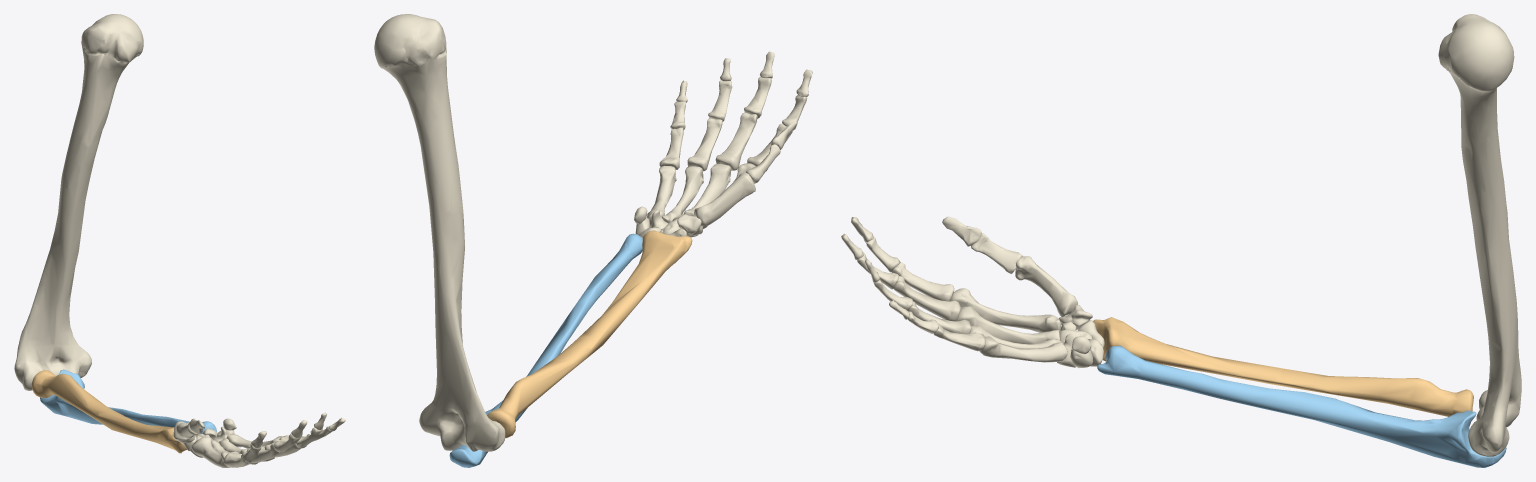
The model's file is forearm-preview.glb.
The picture shows the model from 3 angles, left to right: view 1: azimuth 30°, elevation 25°; view 2: azimuth 150°, elevation 25°; view 3: azimuth 270°, elevation 25°; orthographic projection. The views are drawn at different scales.
Visible parts, largest first — view 1: Humerus.r-preview, Radius.r-preview, Ulna.r-preview, Second metacarpal bone.r-preview; view 2: Humerus.r-preview, Radius.r-preview, Ulna.r-preview, First metacarpal bone-preview, Proximal phalanx of third finger of hand-preview, Fourth metacarpal bone-preview, Third metacarpal bone.l-preview, Proximal phalanx of fourth finger of hand-preview, Fifth metacarpal bone.r-preview, Proximal phalanx of fifth finger of hand-preview, Middle phalanx of third finger of hand-preview, Middle phalanx of fourth finger of hand-preview (+1 smaller); view 3: Humerus.r-preview, Ulna.r-preview, Radius.r-preview, Second metacarpal bone.r-preview, First metacarpal bone-preview, Fifth metacarpal bone.r-preview, Third metacarpal bone.l-preview, Proximal phalanx of third finger of hand-preview, Proximal phalanx of second finger of hand-preview, Proximal phalanx of first finger of hand-preview.
Boxes of the visible parts, x1,y1,x2,y2 form: Humerus.r-preview: (14,14,143,390); Radius.r-preview: (31,370,188,453); Ulna.r-preview: (40,369,216,433); Second metacarpal bone.r-preview: (191,435,238,467); Humerus.r-preview: (374,14,505,451); Radius.r-preview: (487,230,692,438); Ulna.r-preview: (449,233,642,467); First metacarpal bone-preview: (694,172,755,226); Proximal phalanx of third finger of hand-preview: (715,112,757,170); Fourth metacarpal bone-preview: (662,166,703,223); Third metacarpal bone.l-preview: (672,163,731,220); Proximal phalanx of fourth finger of hand-preview: (687,117,722,171); Fifth metacarpal bone.r-preview: (647,165,676,221); Proximal phalanx of fifth finger of hand-preview: (659,127,683,169); Middle phalanx of third finger of hand-preview: (744,76,771,118); Middle phalanx of fourth finger of hand-preview: (708,80,732,121); Humerus.r-preview: (1438,14,1521,456); Ulna.r-preview: (1097,345,1506,467); Radius.r-preview: (1093,317,1473,416); Second metacarpal bone.r-preview: (950,288,1061,332); First metacarpal bone-preview: (1015,256,1077,317); Fifth metacarpal bone.r-preview: (979,336,1067,362); Third metacarpal bone.l-preview: (956,306,1059,344); Proximal phalanx of third finger of hand-preview: (894,276,960,321); Proximal phalanx of second finger of hand-preview: (892,262,954,301); Proximal phalanx of first finger of hand-preview: (971,233,1022,273).
Bounding box in the file's own units: 0.1397 × 0.3302 × 0.4277.
